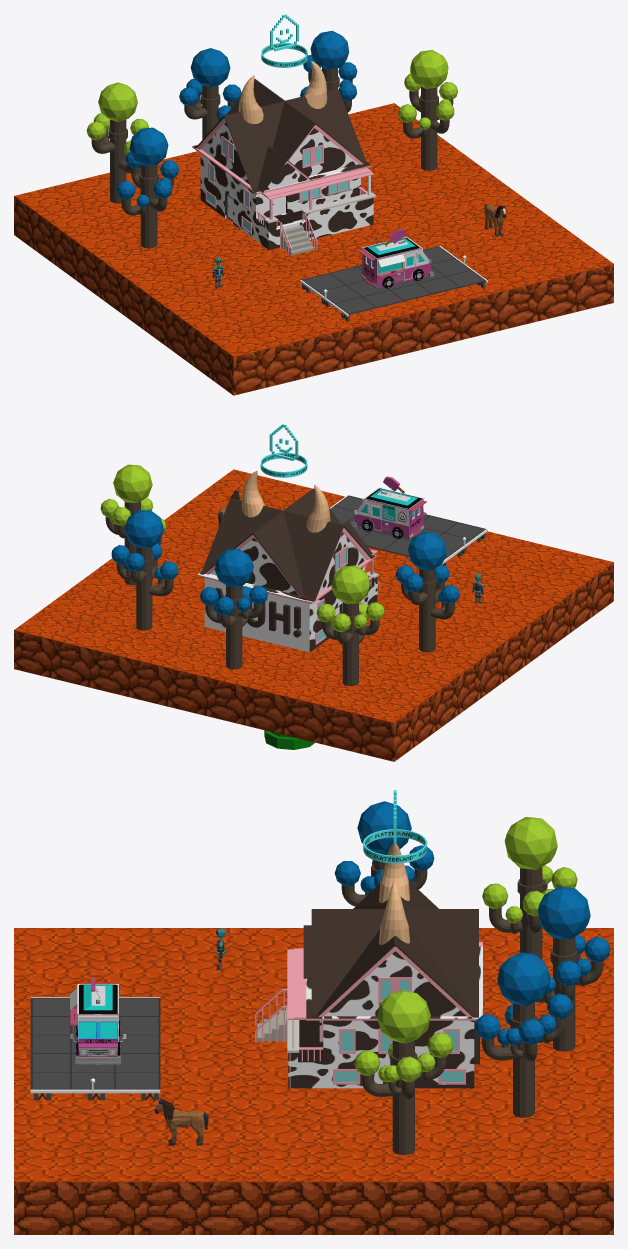
3 renders of one model, top to bottom at view 1: azimuth 30°, elevation 25°; view 2: azimuth 150°, elevation 25°; view 3: azimuth 270°, elevation 25°, orthographic. The views are drawn at different scales.
Visible parts, largest first — view 1: Cube.001, Cube.1242, VEHICLES_ICE_CREAM_TRUCK, TYPE_PREMIUM, ANIMAL_CABALLO; view 2: Cube.001, Cube.1242, VEHICLES_ICE_CREAM_TRUCK, TYPE_PREMIUM, UNDERGROUND_PIPES; view 3: Cube.001, Cube.1242, VEHICLES_ICE_CREAM_TRUCK, TYPE_PREMIUM, ANIMAL_CABALLO.
Boxes of the visible parts, x1,y1,x2,y2 form: Cube.001: (14, 30, 613, 395); Cube.1242: (192, 61, 376, 256); VEHICLES_ICE_CREAM_TRUCK: (358, 228, 434, 288); TYPE_PREMIUM: (261, 14, 307, 67); ANIMAL_CABALLO: (484, 204, 506, 236); Cube.001: (14, 464, 613, 761); Cube.1242: (197, 470, 380, 652); VEHICLES_ICE_CREAM_TRUCK: (351, 476, 426, 538); TYPE_PREMIUM: (260, 424, 307, 477); UNDERGROUND_PIPES: (264, 730, 314, 749); Cube.001: (14, 801, 613, 1234); Cube.1242: (255, 843, 482, 1088); VEHICLES_ICE_CREAM_TRUCK: (70, 977, 126, 1064); TYPE_PREMIUM: (363, 790, 426, 863); ANIMAL_CABALLO: (154, 1098, 208, 1145).
Bounding box in the file's own units: 4000 × 2993 × 4000.
49 materials, 5 textured.
